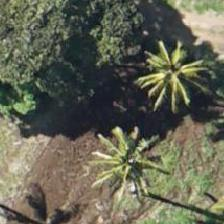coconut_tree: (82, 121, 172, 211), (126, 31, 216, 121)
